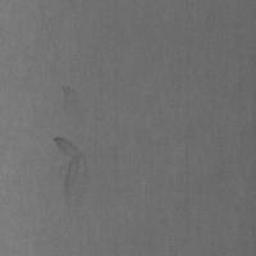Water spot: (51, 134, 93, 215), (60, 83, 81, 127)
